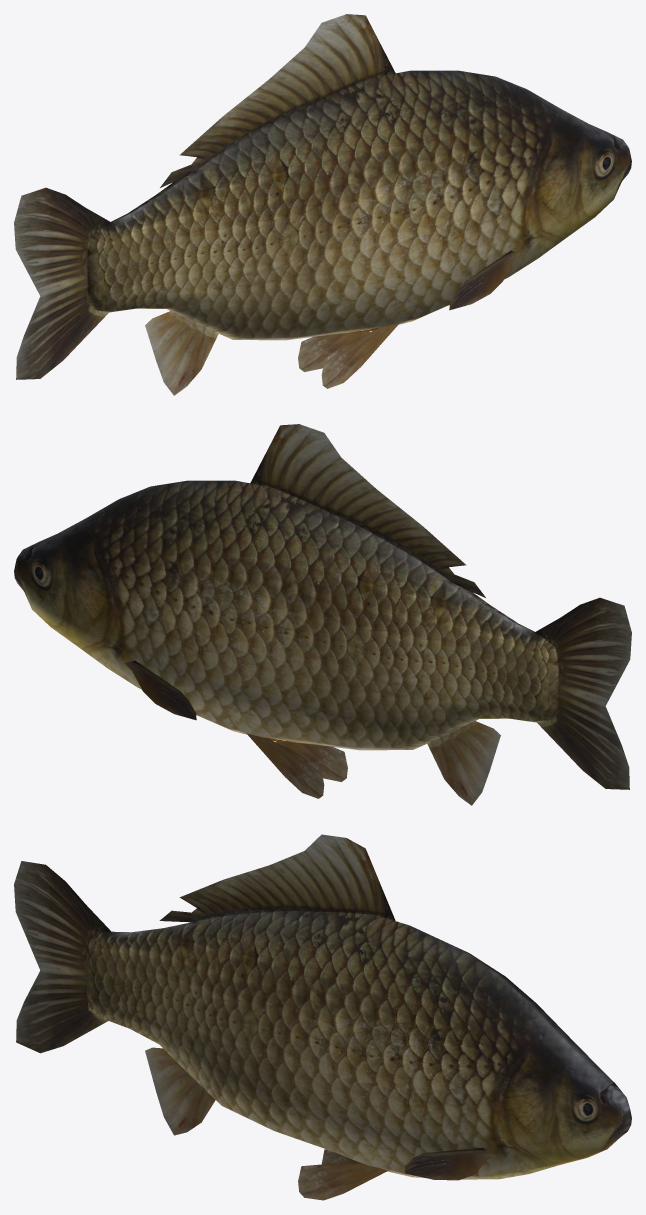
The model's file is PrussianCarp.glb.
The picture shows the model from 3 angles, top to bottom: view 1: azimuth 30°, elevation 25°; view 2: azimuth 150°, elevation 25°; view 3: azimuth 330°, elevation 25°; orthographic projection.
Parts seen in each view (by area): view 1: PrussianCarp; view 2: PrussianCarp; view 3: PrussianCarp.
Part boxes in pixels (<box>): PrussianCarp: <box>14,14,631,395</box>; PrussianCarp: <box>14,424,631,805</box>; PrussianCarp: <box>14,834,631,1200</box>.
Size of the model in its own units: 2 by 1.11 by 0.2526.
1 material, 1 textured.
